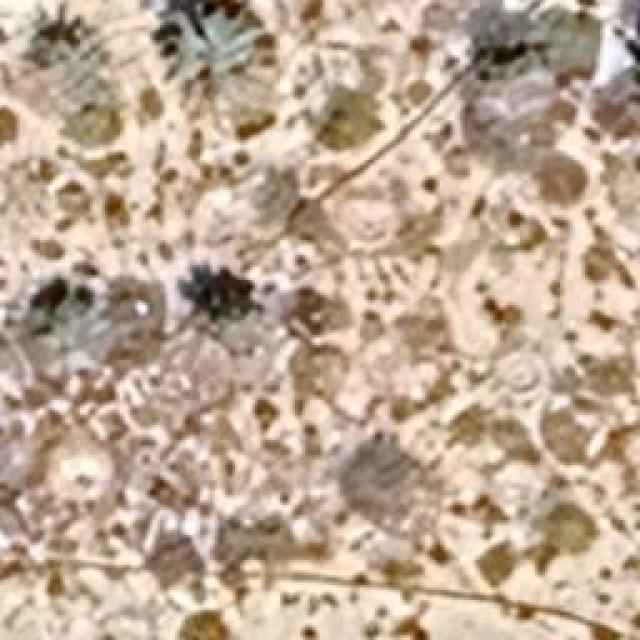PalmTree: (71, 52, 385, 477), (160, 12, 280, 130), (28, 275, 102, 360), (205, 272, 270, 346)
